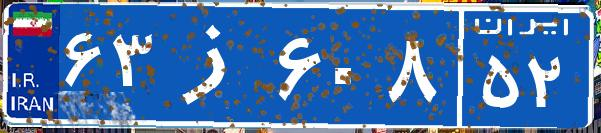0: (330, 28, 385, 110)
2: (525, 38, 570, 115)
3: (110, 28, 158, 105)
5: (475, 38, 525, 113)
6: (273, 28, 330, 110), (57, 26, 110, 107)
8: (385, 28, 445, 110)
ز: (158, 15, 273, 115)
